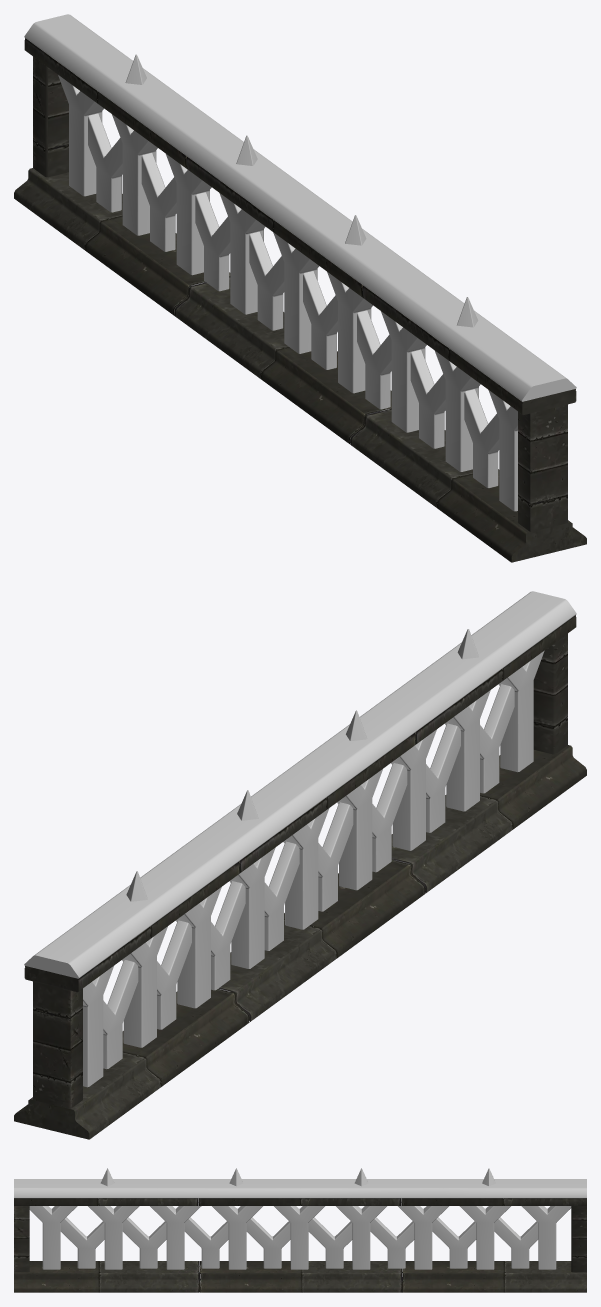
3 views of the same model, one above another, from view 1: azimuth 30°, elevation 25°; view 2: azimuth 150°, elevation 25°; view 3: azimuth 270°, elevation 25° (orthographic). The views are drawn at different scales.
Parts seen in each view (by area): view 1: SM_Greathall_Banister_01_LOD0; view 2: SM_Greathall_Banister_01_LOD0; view 3: SM_Greathall_Banister_01_LOD0.
Part boxes in pixels (x1,y1,x2,y2): SM_Greathall_Banister_01_LOD0: (14,14,586,562); SM_Greathall_Banister_01_LOD0: (14,591,586,1139); SM_Greathall_Banister_01_LOD0: (14,1168,586,1292).
Bounding box in the file's own units: 0.7002 × 1.75 × 8.
